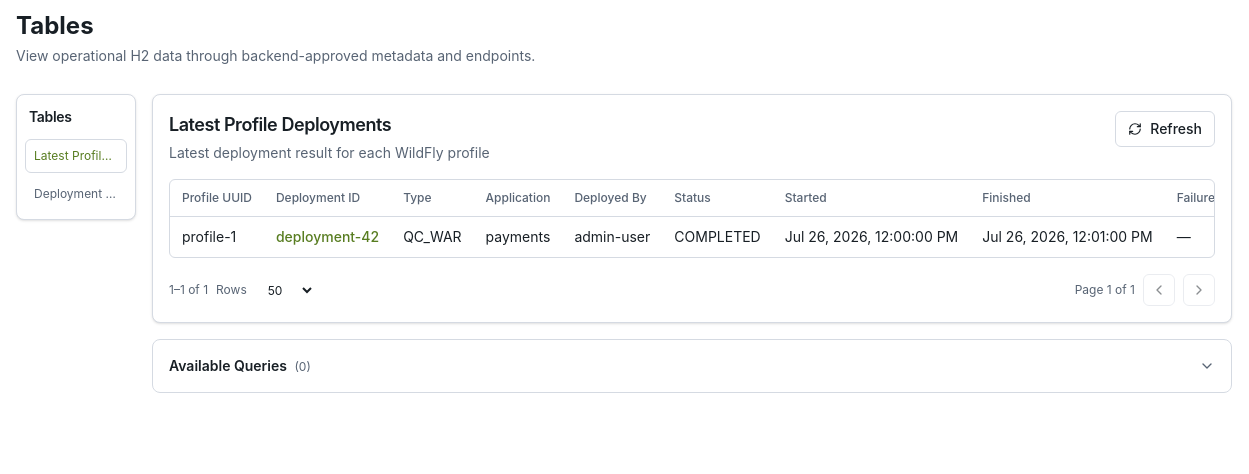
Test case: TablesPage metadata-driven queries › uses the revised latest-profile fields and opens the linked deployment detail
Click the button "deployment-42" at (328, 237), box top-left (276, 227), bottom-right (379, 247)
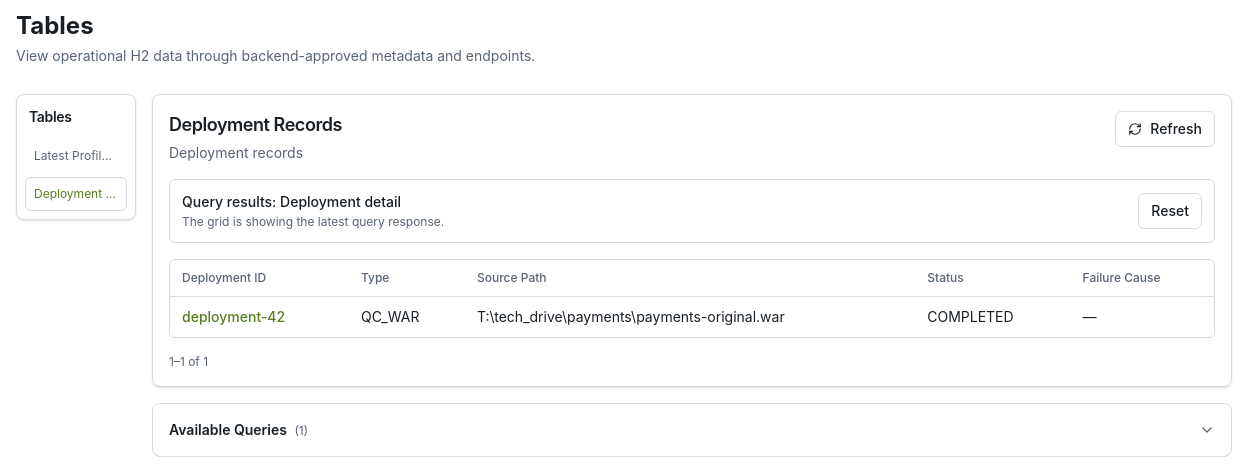
Expected: the text "Query results: Deployment detail" is shown, top-left (182, 193), bottom-right (401, 210)
Expected: the button "T:\\tech_drive\\payments\\payments-original.war" is shown, top-left (477, 307), bottom-right (797, 327)
